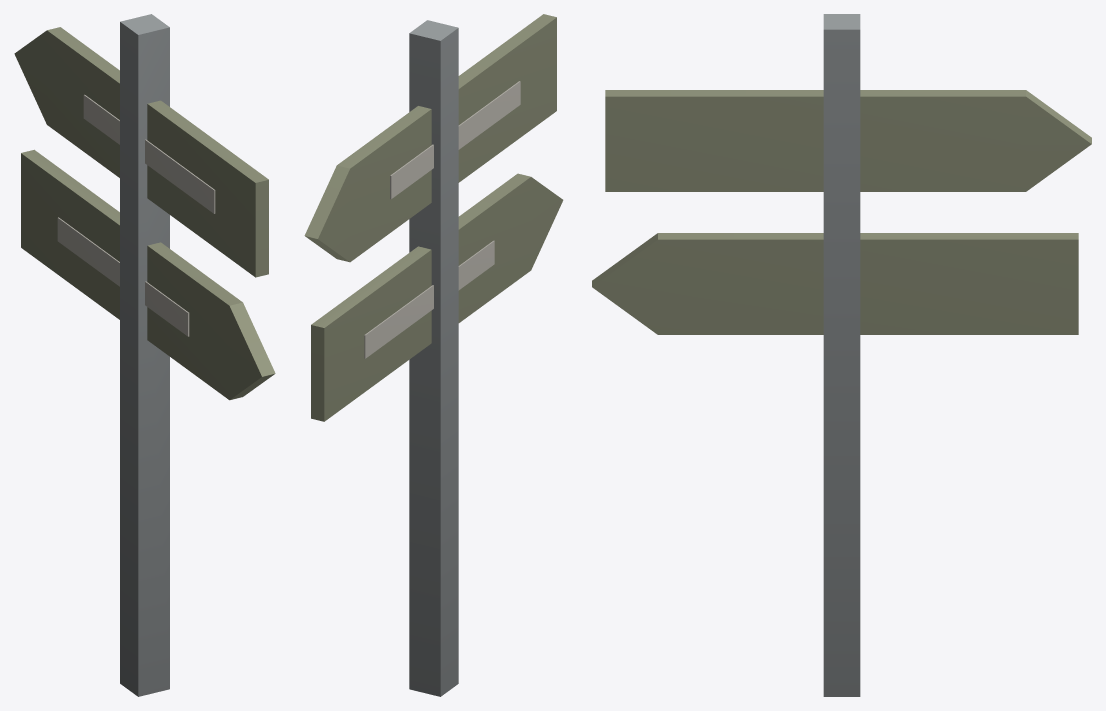
File: mil_signpost.glb
3 views of the same model, side by side, from view 1: azimuth 30°, elevation 25°; view 2: azimuth 150°, elevation 25°; view 3: azimuth 270°, elevation 25° (orthographic).
Visible parts, largest first — view 1: mil_signpost; view 2: mil_signpost; view 3: mil_signpost.
Boxes of the visible parts, x1,y1,x2,y2 form: mil_signpost: (14, 14, 275, 696); mil_signpost: (304, 14, 563, 696); mil_signpost: (592, 14, 1091, 696).
Bounding box in the file's own units: 0.14 × 2.8 × 1.9.
